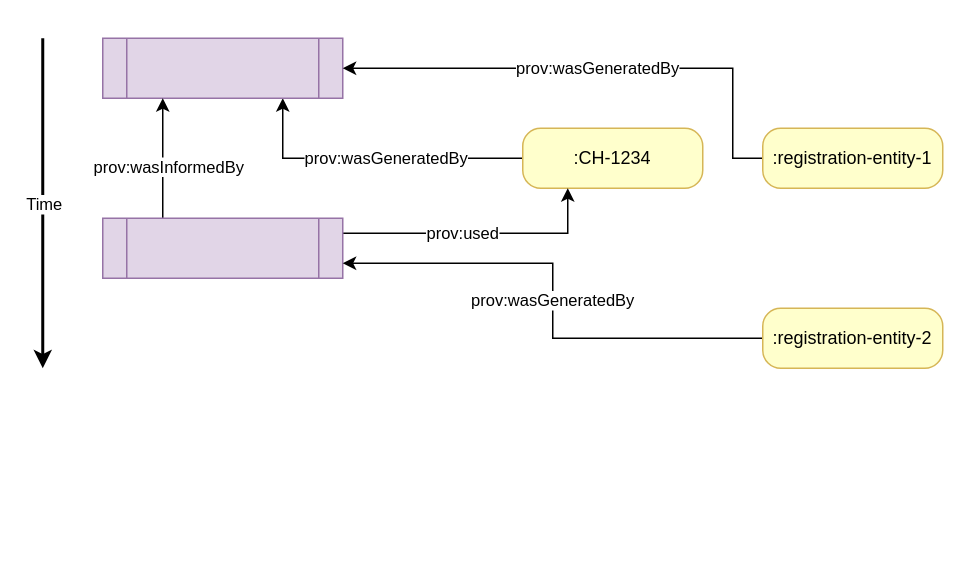
Some shapes in this 969 by 587 pixel diagram are drawn without their labels. The shapes that lost their labels are listed below. From the top down, each one's centre as x and y in pixels, then its label:
At [222,67]: ":registration-activity-1".
At [222,247]: ":registration-activity-2".
